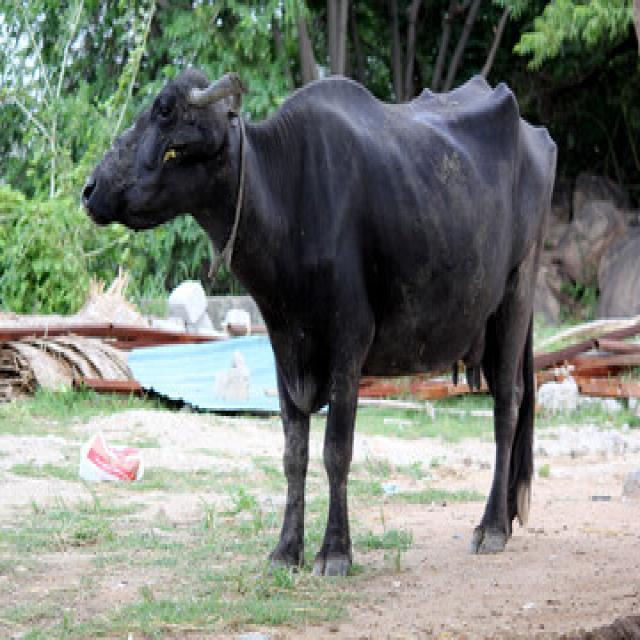Buffalo: (78, 59, 560, 579)
